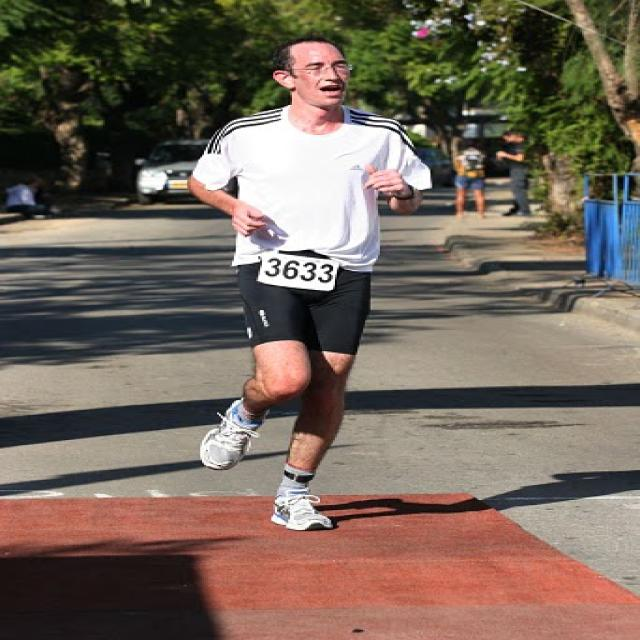Bib: (260, 258, 328, 287)
